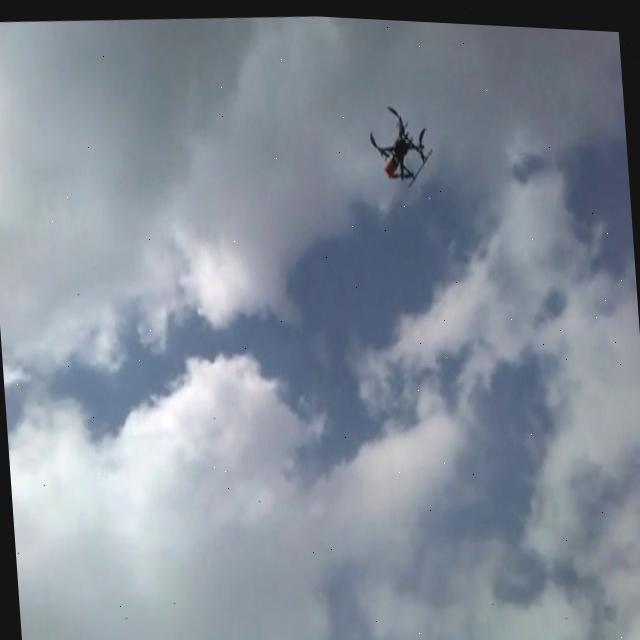drone: (364, 94, 436, 185)
